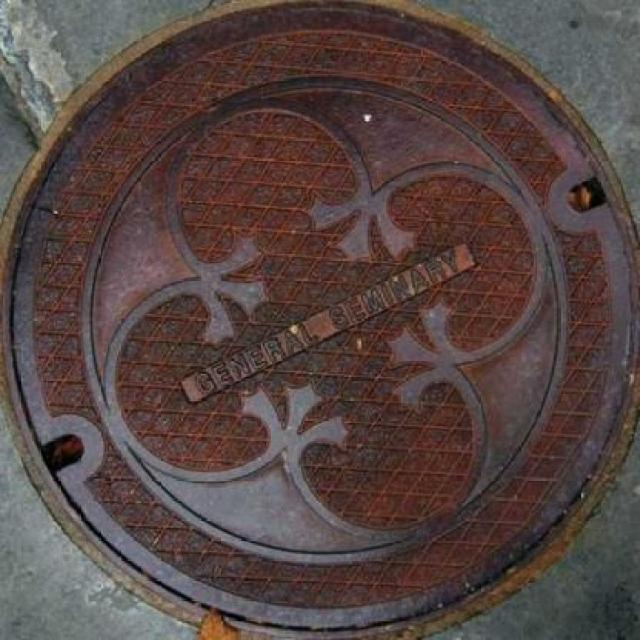Manhole: (7, 7, 640, 632)
